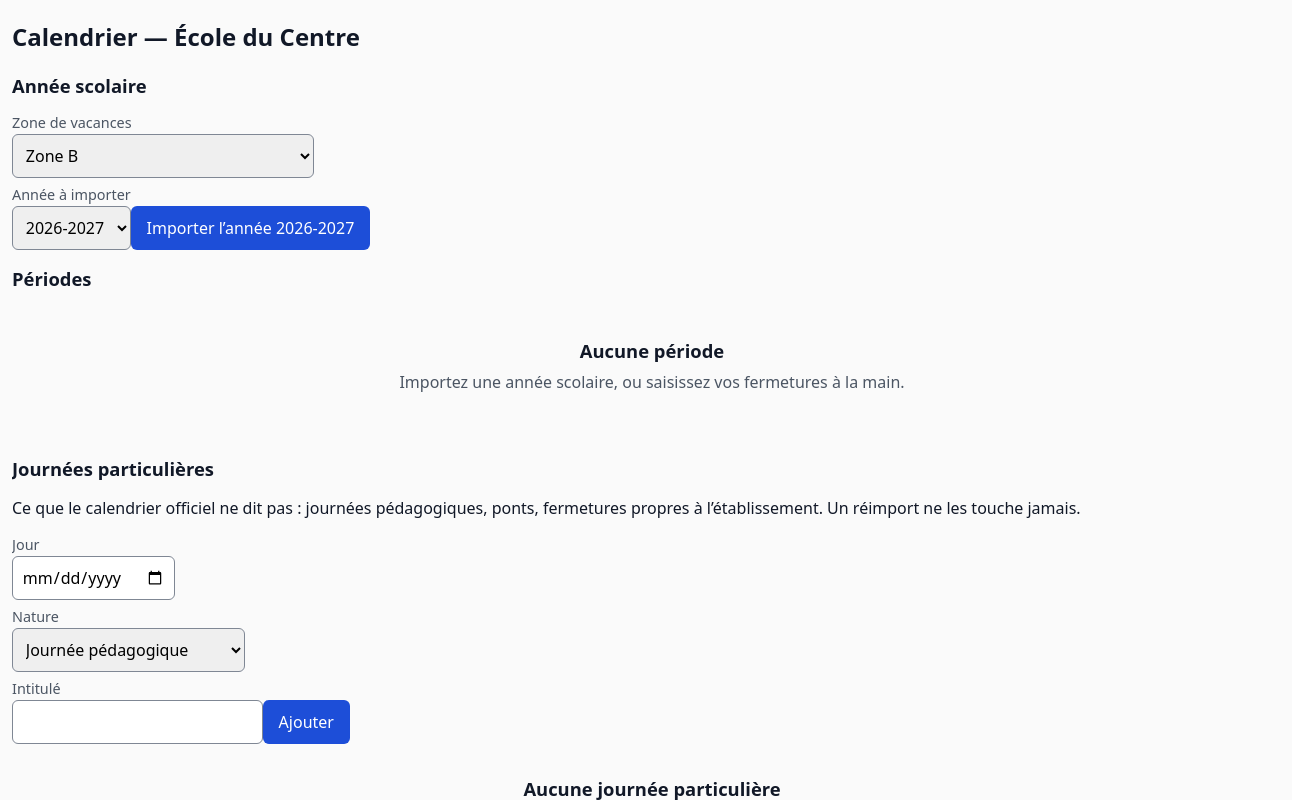
CalendrierPage › importe l’année et annonce ce qui a été posé
Click the button "Importer l’année 2026-2027": (250, 228) [131,206,370,250]
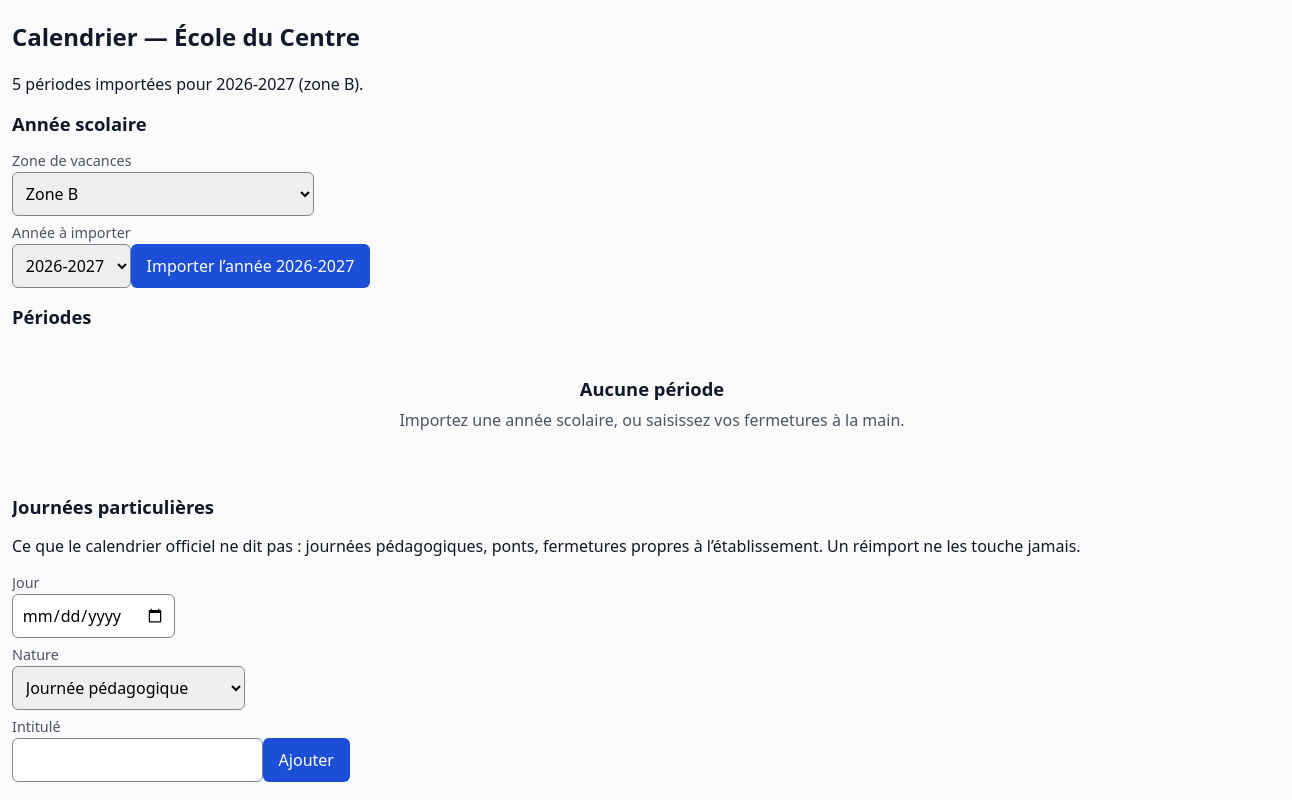
Result: the message shows "5 périodes importées" at [12,73,363,95]
